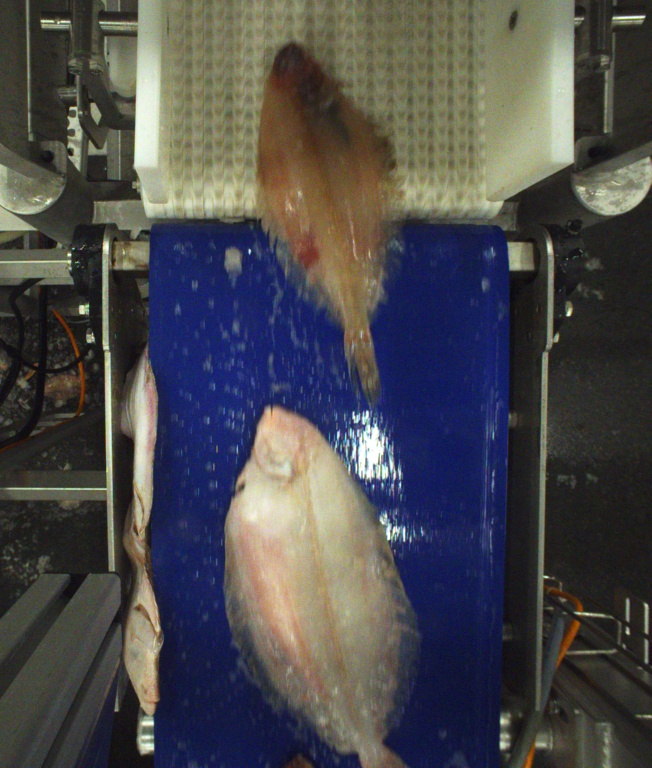WIT: (262, 36, 401, 409)
